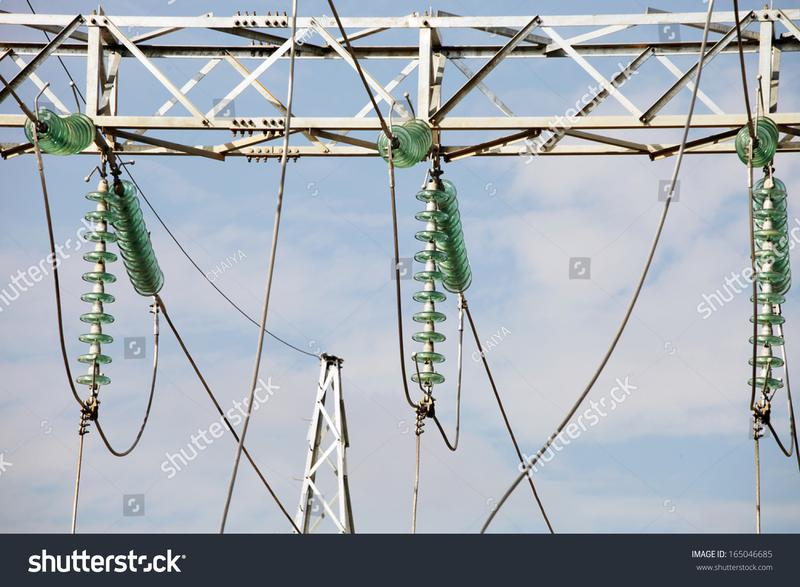isolator: (747, 176, 791, 393), (74, 191, 120, 387), (409, 189, 449, 389), (106, 179, 164, 297), (425, 180, 473, 294), (23, 109, 95, 156), (375, 118, 432, 169), (735, 115, 779, 167)
